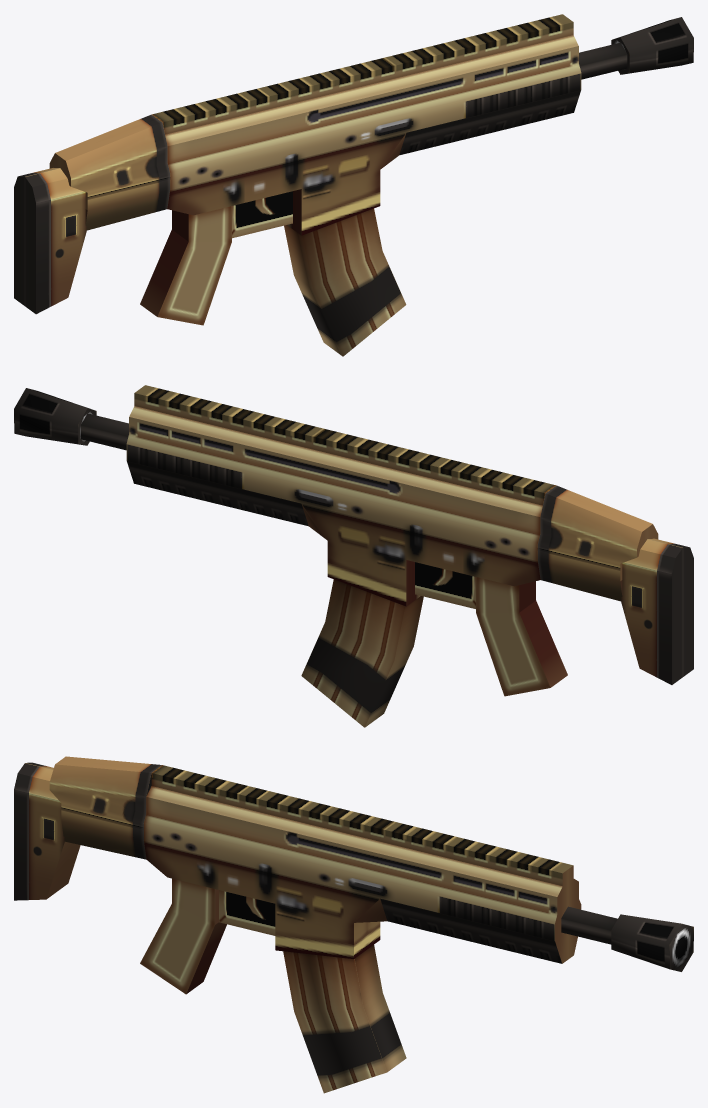
File: rifle scar lv1.FBX
3 views of the same model, one above another, from view 1: azimuth 30°, elevation 25°; view 2: azimuth 150°, elevation 25°; view 3: azimuth 330°, elevation 25° (orthographic).
Visible parts, largest first — view 1: Object056; view 2: Object056; view 3: Object056.
Boxes of the visible parts, x1,y1,x2,y2 form: Object056: (14, 14, 693, 356); Object056: (14, 385, 693, 727); Object056: (14, 756, 693, 1093).
Size of the model in its own units: 81.87 by 32.69 by 5.66.
